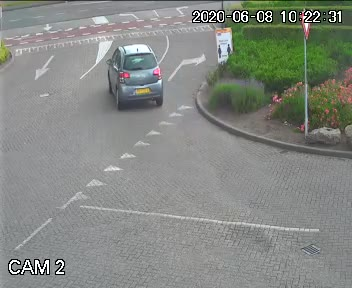car: (98, 33, 183, 126)
